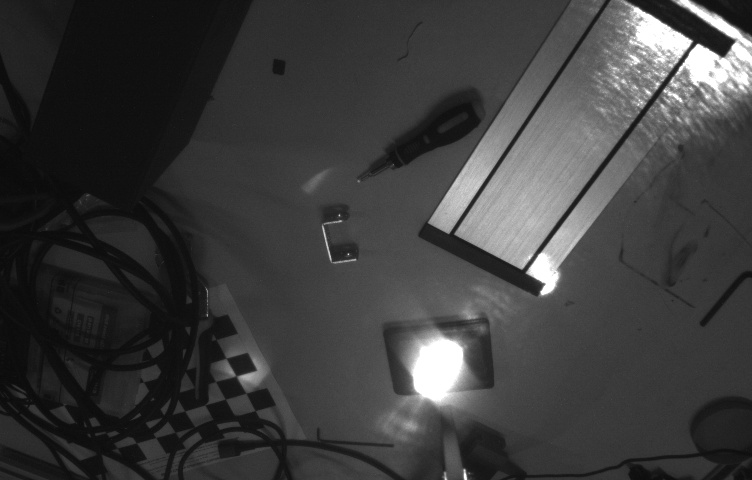Object bifold wallet - Material leather - Pdfname qb3CMu4EyzEc: (412, 346, 465, 397)
